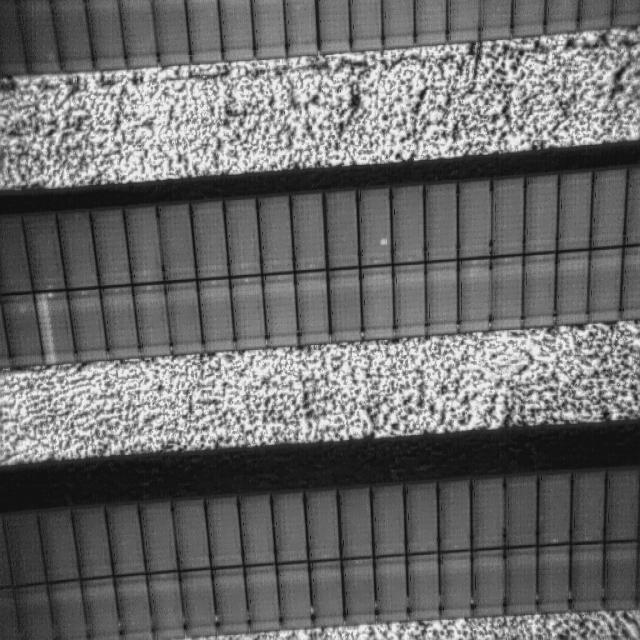diode: (39, 290, 55, 367)
hotspot: (380, 237, 389, 247)
